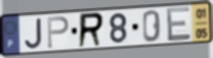0: (142, 9, 161, 44)
8: (108, 12, 129, 45)
E: (165, 5, 193, 43)
J: (24, 17, 44, 50)
P: (46, 15, 71, 50)
R: (77, 11, 106, 50)
